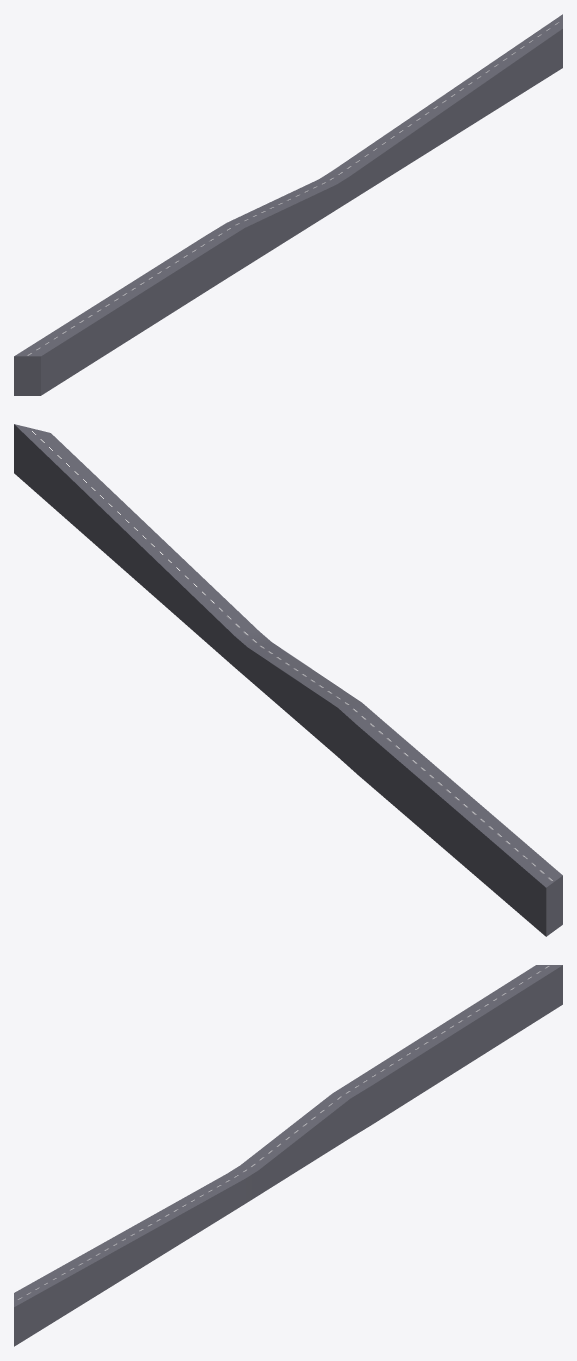
Rendered from road_2.gltf.
The picture shows the model from 3 angles, top to bottom: view 1: azimuth 90°, elevation 25°; view 2: azimuth 150°, elevation 25°; view 3: azimuth 270°, elevation 25°; orthographic projection. The views are drawn at different scales.
Parts seen in each view (by area): view 1: road; view 2: road; view 3: road.
Boxes of the visible parts, <box> form: road: <box>14,14,562,395</box>; road: <box>14,424,562,936</box>; road: <box>14,965,562,1346</box>.
Size of the model in its own units: 45.36 by 2.44 by 30.75.
Materials: 1 (1 with a texture image).
